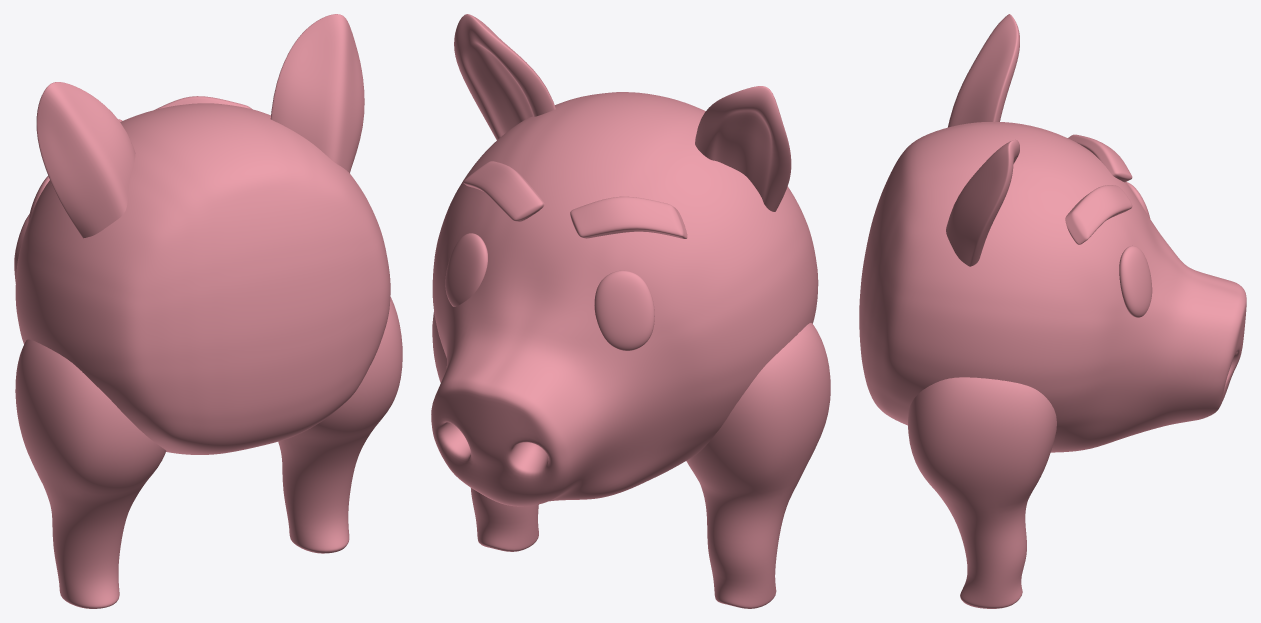
The model's file is B-Oink!_Char_HP.fbx.
3 views of the same model, side by side, from view 1: azimuth 30°, elevation 25°; view 2: azimuth 150°, elevation 25°; view 3: azimuth 270°, elevation 25° (orthographic). The views are drawn at different scales.
Visible parts, largest first — view 1: Head_HP, Leg_l_HP, Ears_HP, Leg_r_HP, Eyebrows_HP; view 2: Head_HP, Leg_l_HP, Ears_HP, Eyebrows_HP, Eyes_HP, Leg_r_HP; view 3: Head_HP, Leg_r_HP, Ears_HP, Eyebrows_HP, Eyes_HP.
Boxes of the visible parts, <box> form: Head_HP: <box>14,103,390,454</box>; Leg_l_HP: <box>15,339,166,608</box>; Ears_HP: <box>36,14,364,238</box>; Leg_r_HP: <box>278,296,402,553</box>; Eyebrows_HP: <box>118,96,252,121</box>; Head_HP: <box>431,92,818,506</box>; Leg_l_HP: <box>686,323,830,608</box>; Ears_HP: <box>454,14,791,211</box>; Eyebrows_HP: <box>463,161,687,238</box>; Eyes_HP: <box>445,233,654,350</box>; Leg_r_HP: <box>432,312,538,551</box>; Head_HP: <box>859,122,1246,452</box>; Leg_r_HP: <box>908,377,1056,608</box>; Ears_HP: <box>946,14,1019,266</box>; Eyebrows_HP: <box>1065,134,1132,244</box>; Eyes_HP: <box>1119,182,1152,317</box>.
Size of the model in its own units: 280 by 385 by 288.
